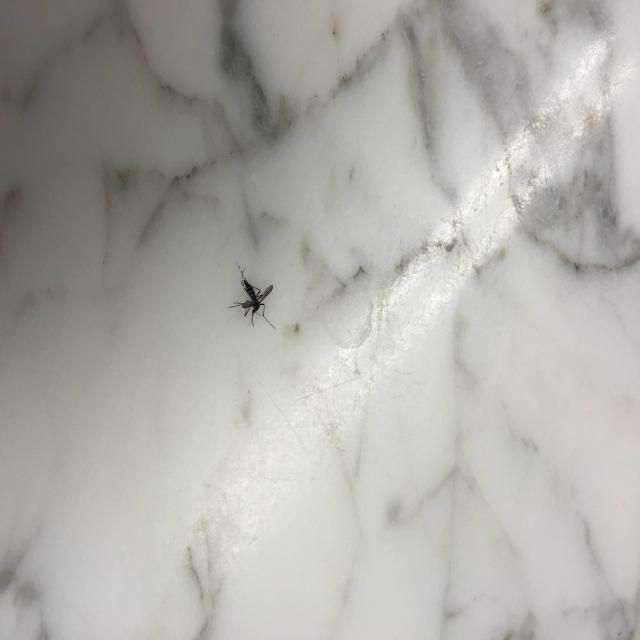albopictus: (227, 252, 279, 334)
